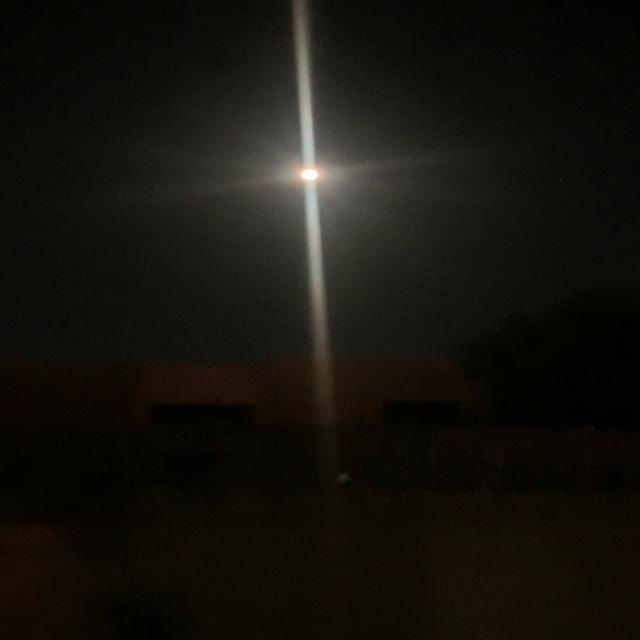moon: (270, 159, 334, 192)
